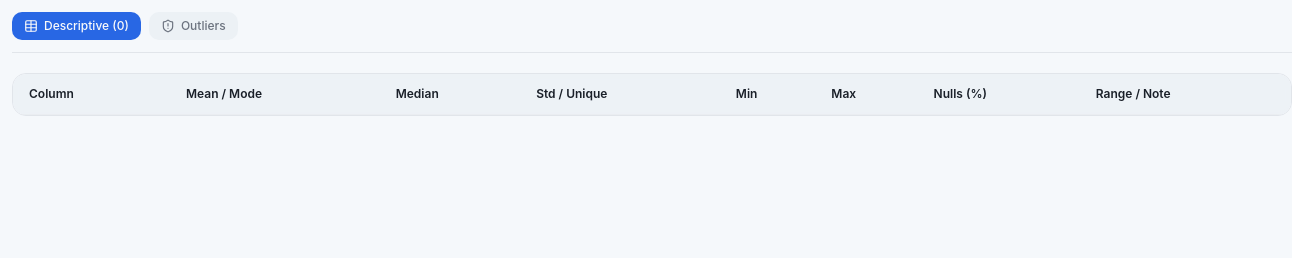
it: DatasetStatisticsView › switches to the outliers tab
Step 1. Click the button "Outliers" → point(193, 26), box [149, 12, 238, 40]
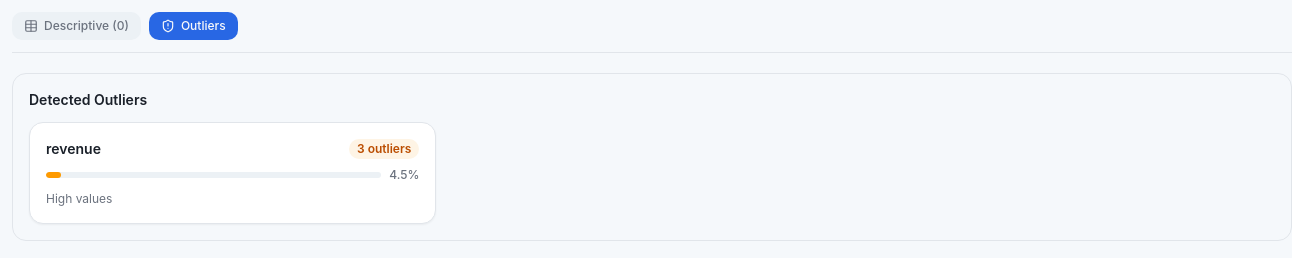
Result: the heading "Detected Outliers" is shown at [29, 91, 147, 108]
Result: the text "High values" is shown at [46, 191, 112, 206]
